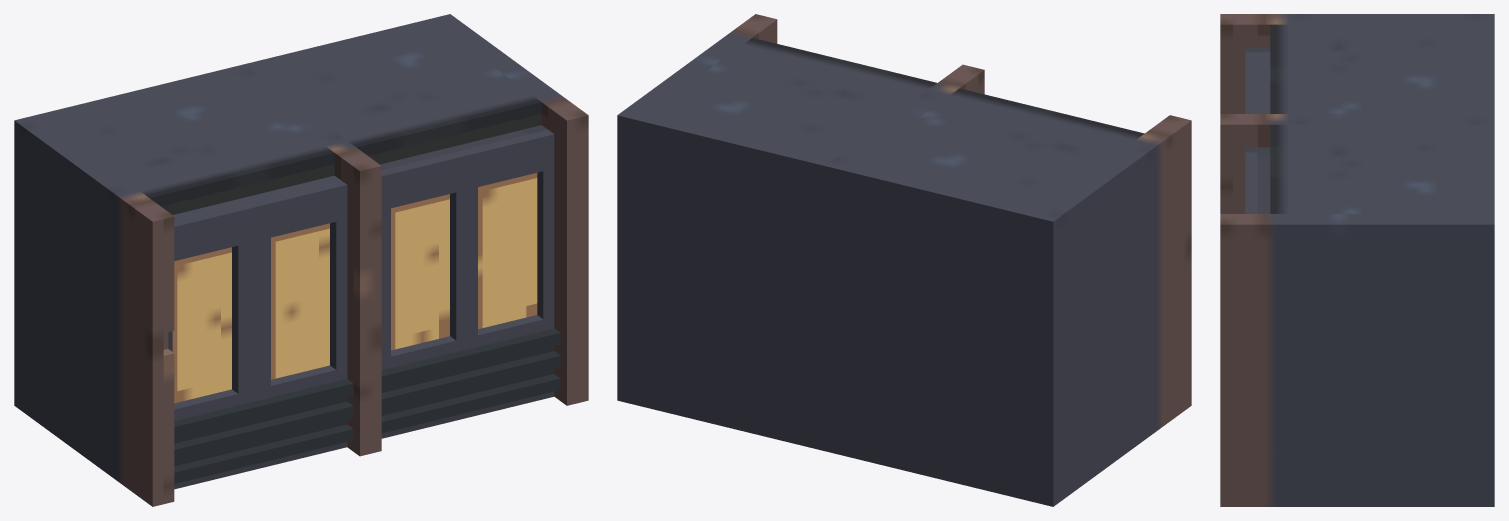
Rendered from BuildingBlock-18.fbx.
The picture shows the model from 3 angles, left to right: view 1: azimuth 30°, elevation 25°; view 2: azimuth 150°, elevation 25°; view 3: azimuth 270°, elevation 25°; orthographic projection.
Visible parts, largest first — view 1: BuildingBlock_18; view 2: BuildingBlock_18; view 3: BuildingBlock_18.
Boxes of the visible parts, x1,y1,x2,y2 form: BuildingBlock_18: (14, 14, 588, 506); BuildingBlock_18: (617, 14, 1191, 506); BuildingBlock_18: (1220, 14, 1494, 506).
Bounding box in the file's own units: 400 × 250 × 220.
